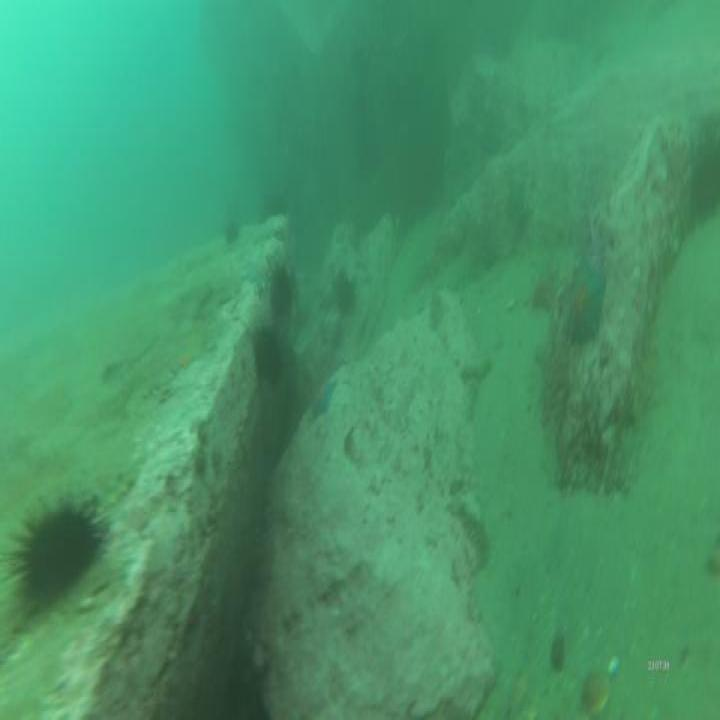echinus: (19, 499, 96, 601), (246, 327, 290, 395), (266, 265, 299, 322), (333, 268, 356, 318)
starfish: (560, 258, 609, 346), (308, 375, 338, 427)
